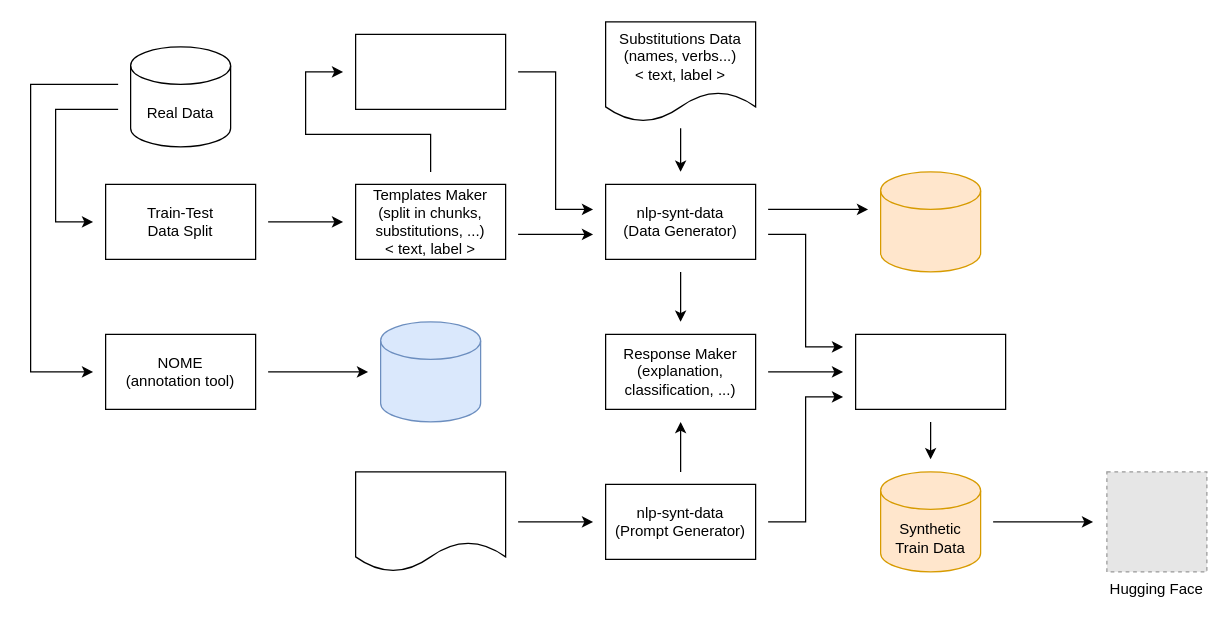
Image size: 1229x620. Some labels were removed from this diagram. Grey dashed boxes stand in for pictures. The centre of each missing label's shape, as x and y in pixels:
"Chat Maker" goes at [930,371].
"Chunks Merger (length control)" goes at [430,71].
"Promprs < prompt, label >" goes at [430,521].
"Real Data Annotated" goes at [430,371].
"Synthetic Test Data" goes at [930,221].
